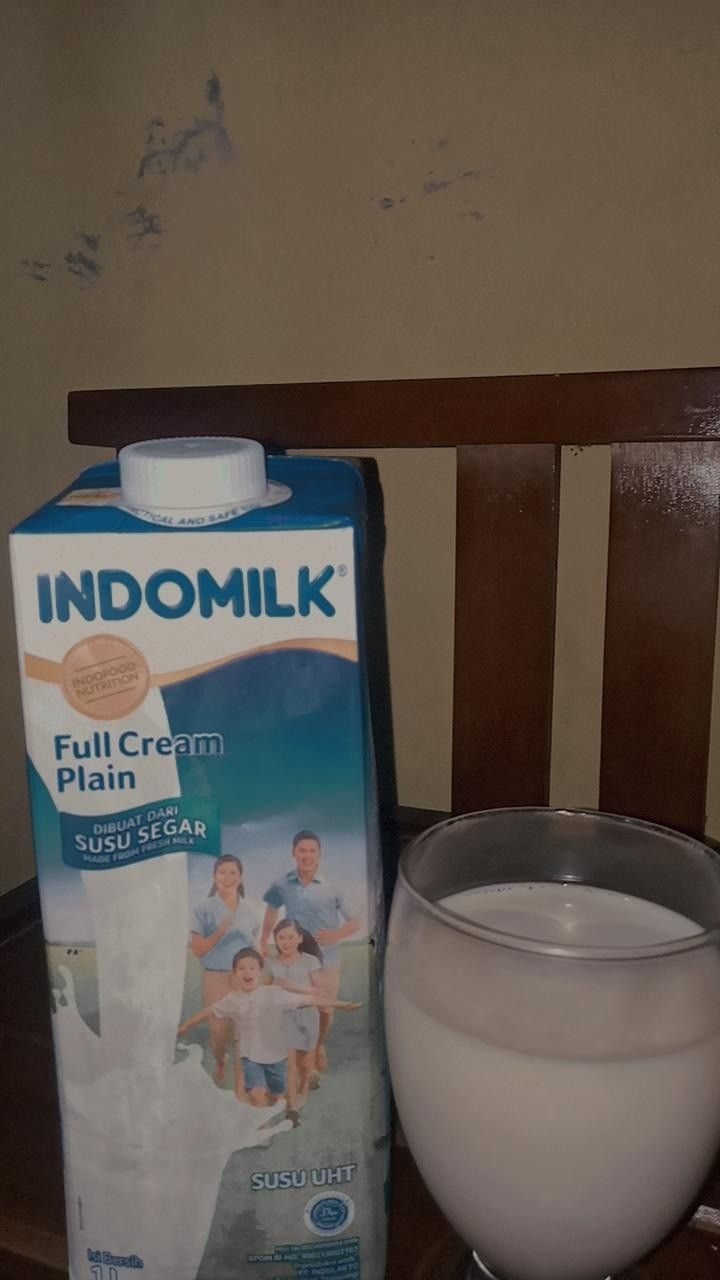produk_susu: (437, 838, 686, 1248)
